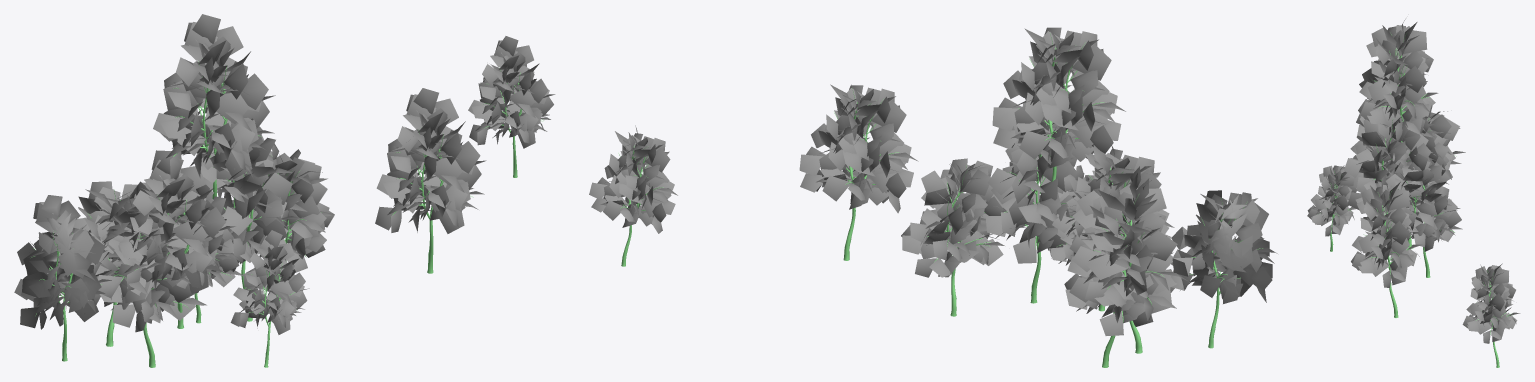
File: Woods_Dawn_Trees_09.gltf
3 views of the same model, side by side, from view 1: azimuth 30°, elevation 25°; view 2: azimuth 150°, elevation 25°; view 3: azimuth 270°, elevation 25° (orthographic). The views are drawn at different scales.
Parts seen in each view (by area): view 1: Woods_Dawn_Trees_09; view 2: Woods_Dawn_Trees_09; view 3: Woods_Dawn_Trees_09.
Part boxes in pixels (x1,y1,x2,y2): Woods_Dawn_Trees_09: (14,14,555,367); Woods_Dawn_Trees_09: (589,27,1277,367); Woods_Dawn_Trees_09: (1307,19,1520,367).
Bounding box in the file's own units: 334 × 180 × 139.
